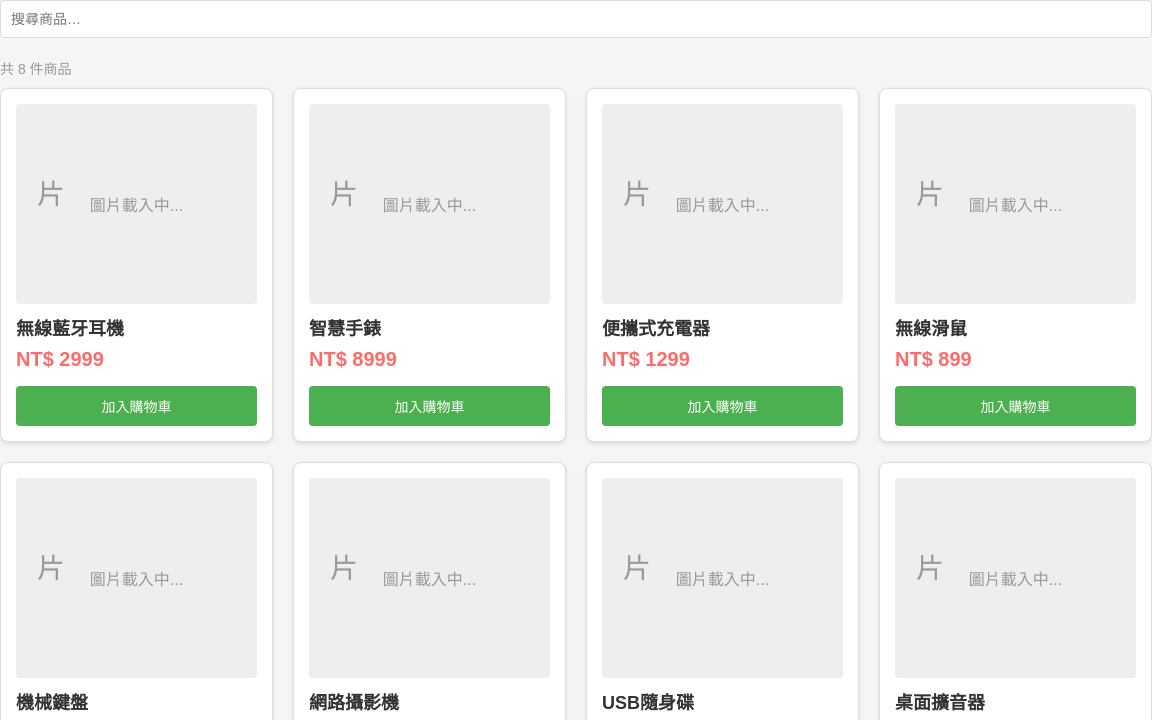
Test: Ticket 05: search products by name › filters by name case-insensitively and updates the count
The width and height of the screenshot is (1152, 720).
In the search field labelled "搜尋商品": (576, 19) [0,0,1151,38], type "usb"
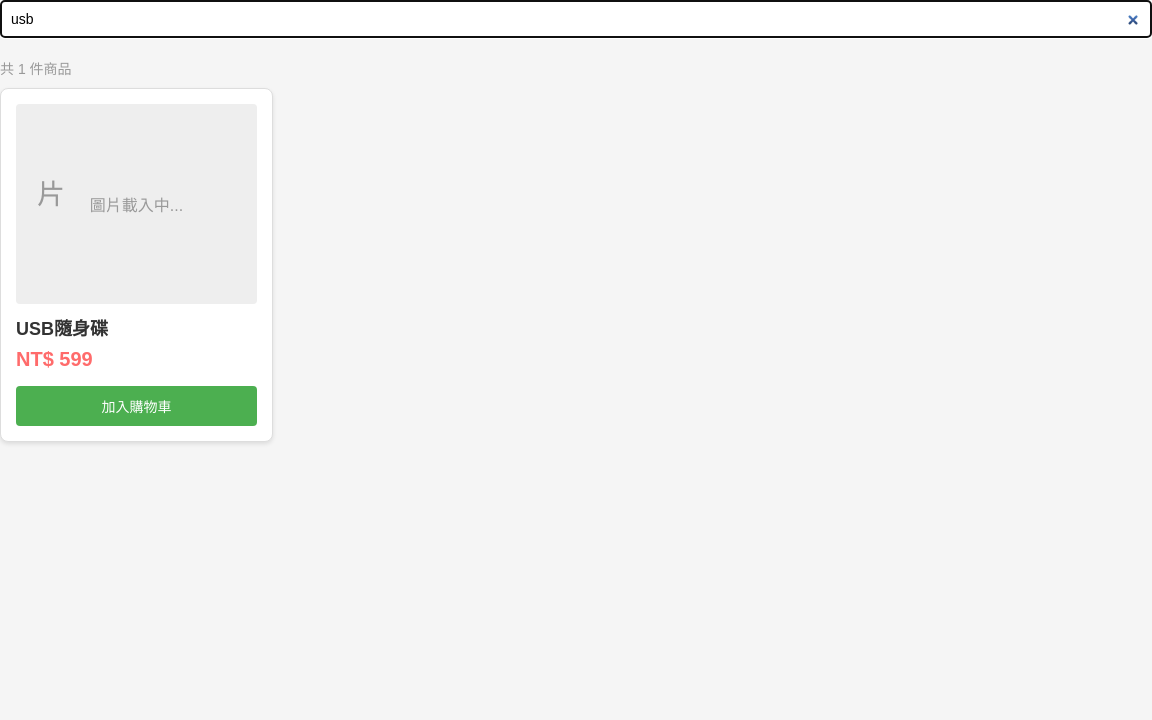
Check: the element showing "圖片載入中... USB隨身碟 NT$ 599 加入購物車" is shown, box [0,88,273,442]
Check: the text "共 1 件商品" is shown, box [0,61,72,77]
